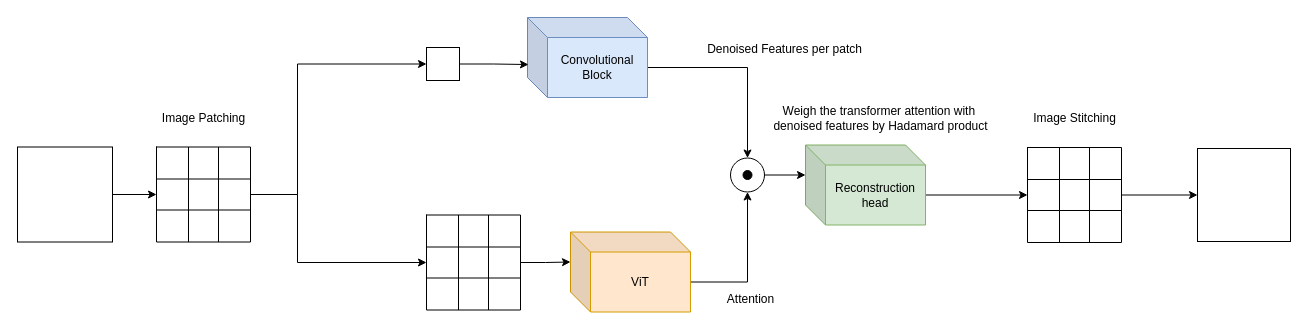
Image size: 1308x330. Some labels were removed from this diagram. The box of each missing label's shape, as (x1, y1, x2, y2) in pixels:
Blurred Image: (16, 146, 112, 242)
Sharp Image: (1196, 148, 1290, 242)
